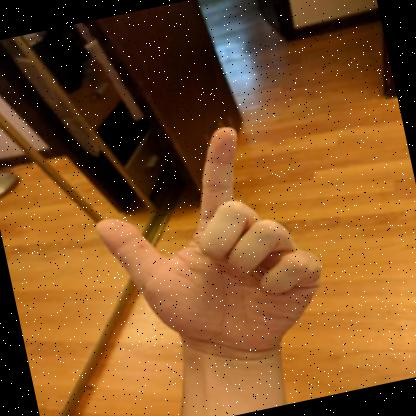L: (95, 126, 321, 366)
